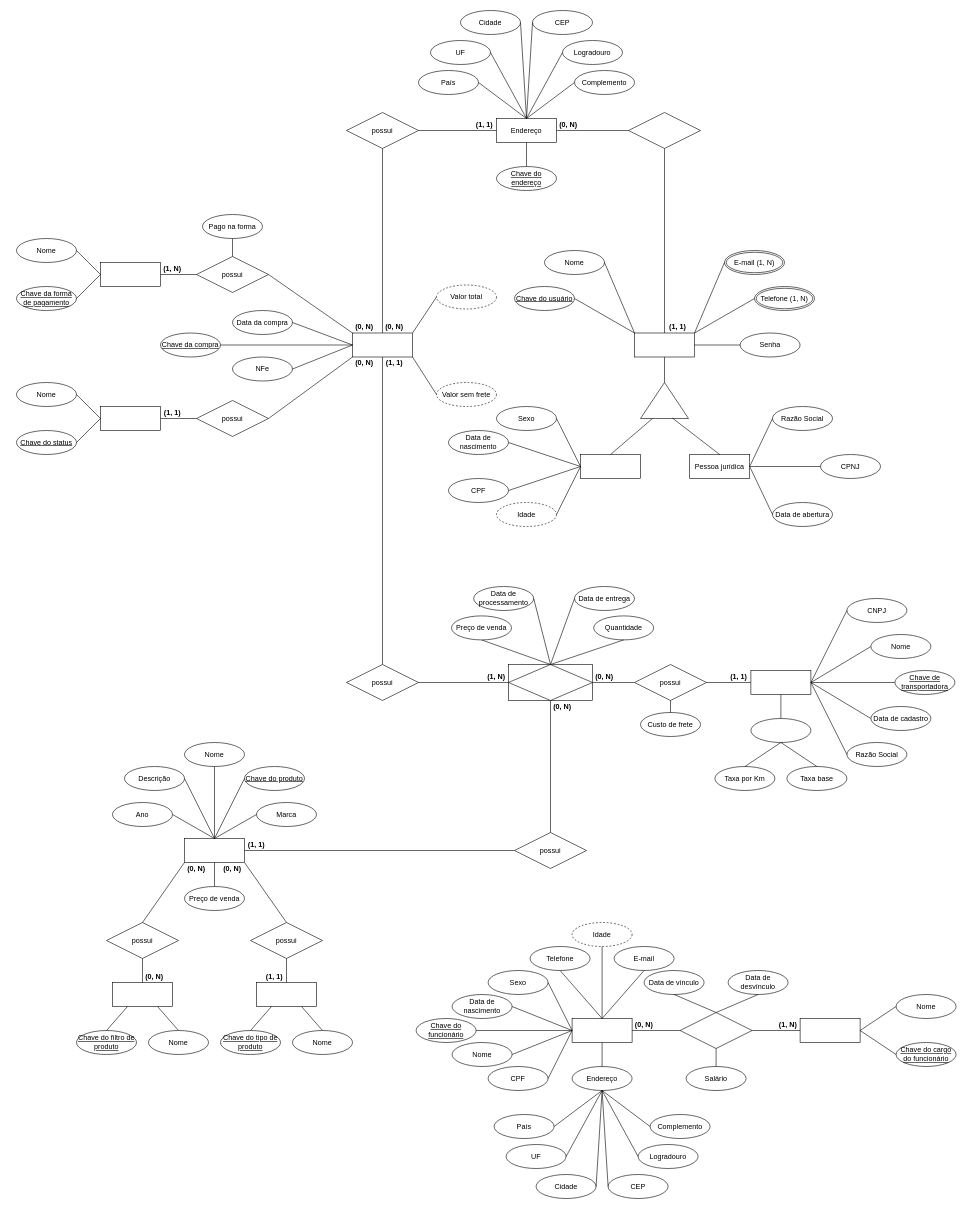
This 967x1209 diagram has some shape labels left out. Here are the shapes that lost their labels. From the top down, the centre of each, then its label:
At [664,130]: "pertence".
At [130,274]: "Forma de pagamento".
At [382,344]: "Compra".
At [664,344]: "Usuário".
At [130,418]: "Status".
At [664,400]: "t, e".
At [610,466]: "Pessoa física".
At [550,682]: "Registro".
At [780,682]: "Transportadora".
At [780,730]: "Taxa".
At [214,850]: "Produto".
At [142,994]: "Filtro para produto".
At [286,994]: "Tipo de produto".
At [602,1030]: "Funcionário".
At [716,1030]: "vínculo".
At [830,1030]: "Cargo de funcionário".
